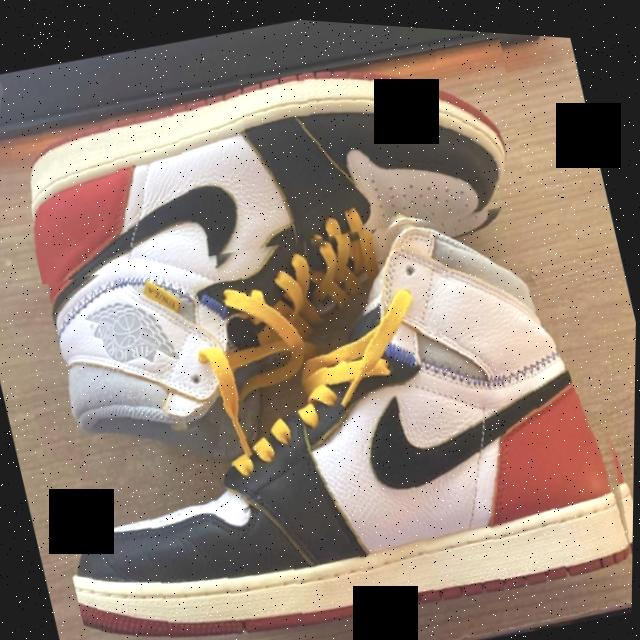shoe: (3, 151, 638, 640), (2, 4, 588, 510)
